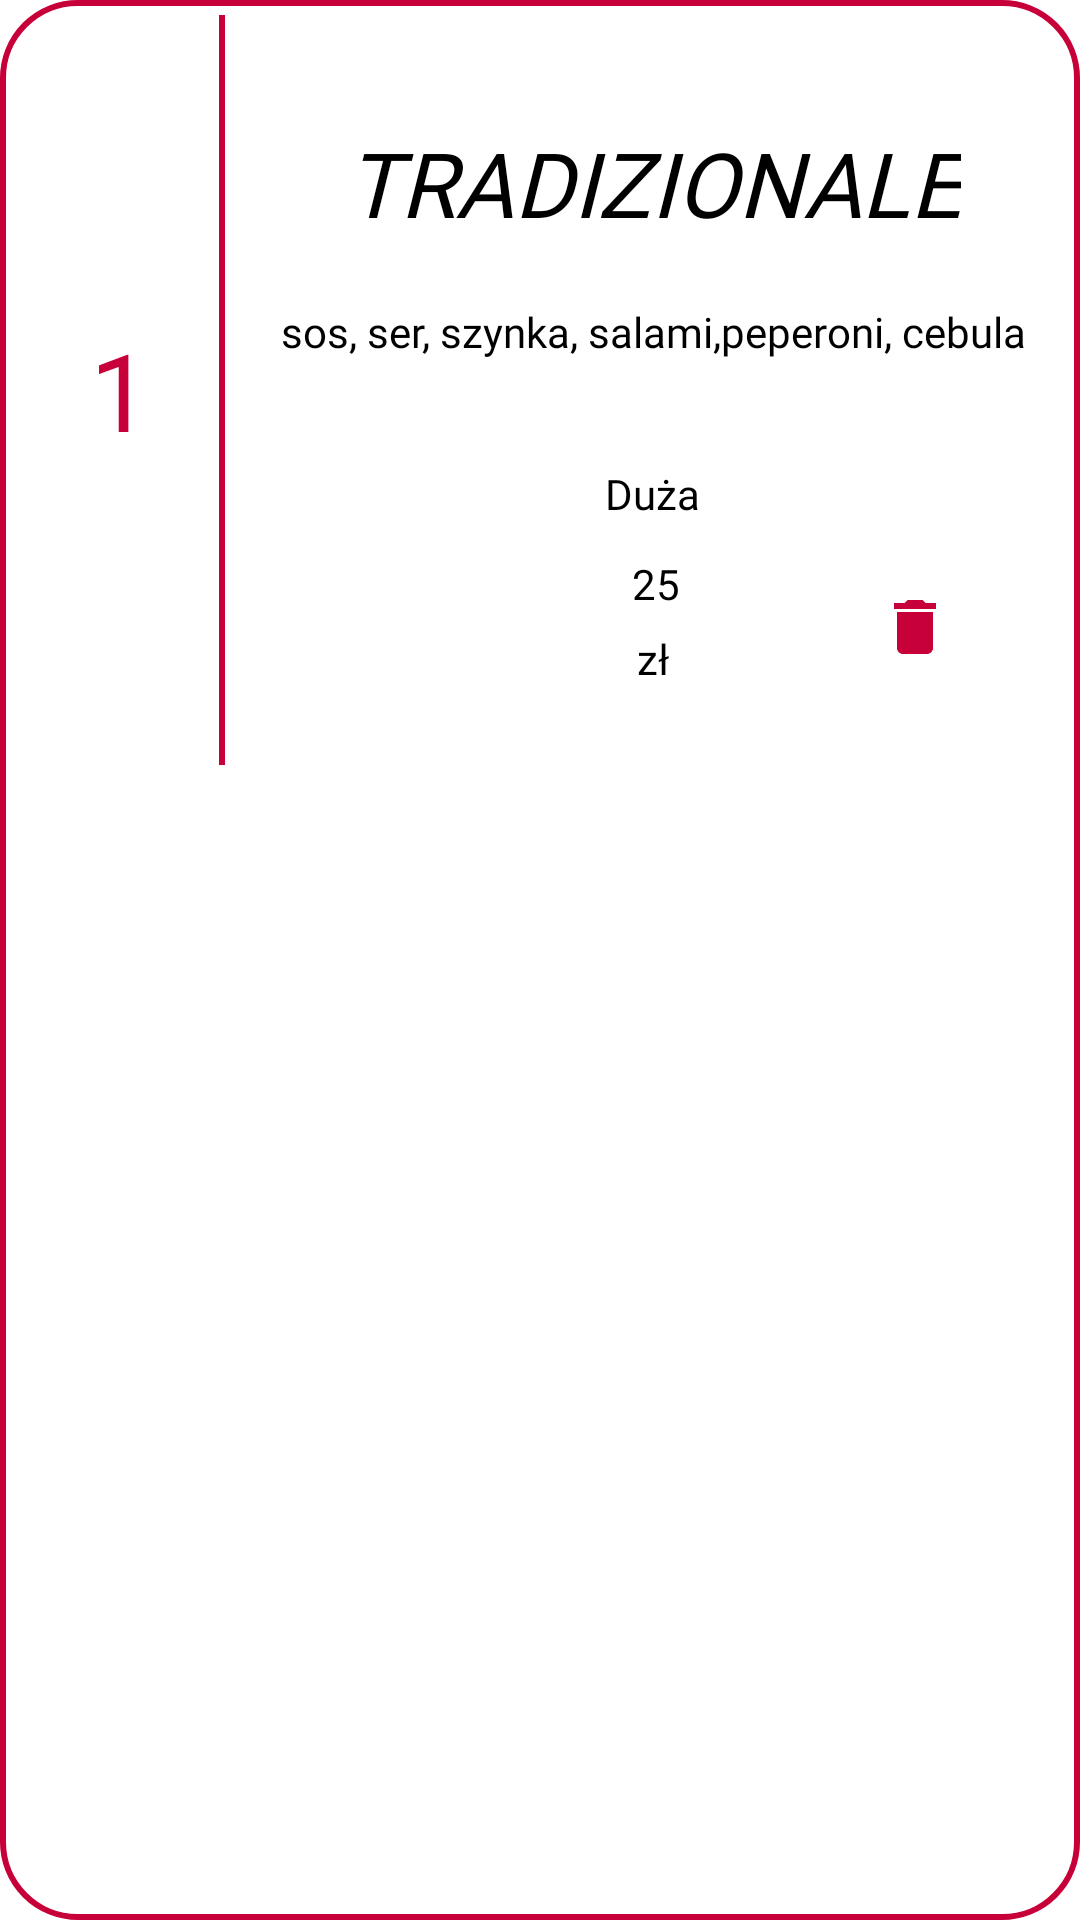

Icon click points for this 1080 x 1920 phone screenshot, format point (x, y):
delete: point (915, 627)
